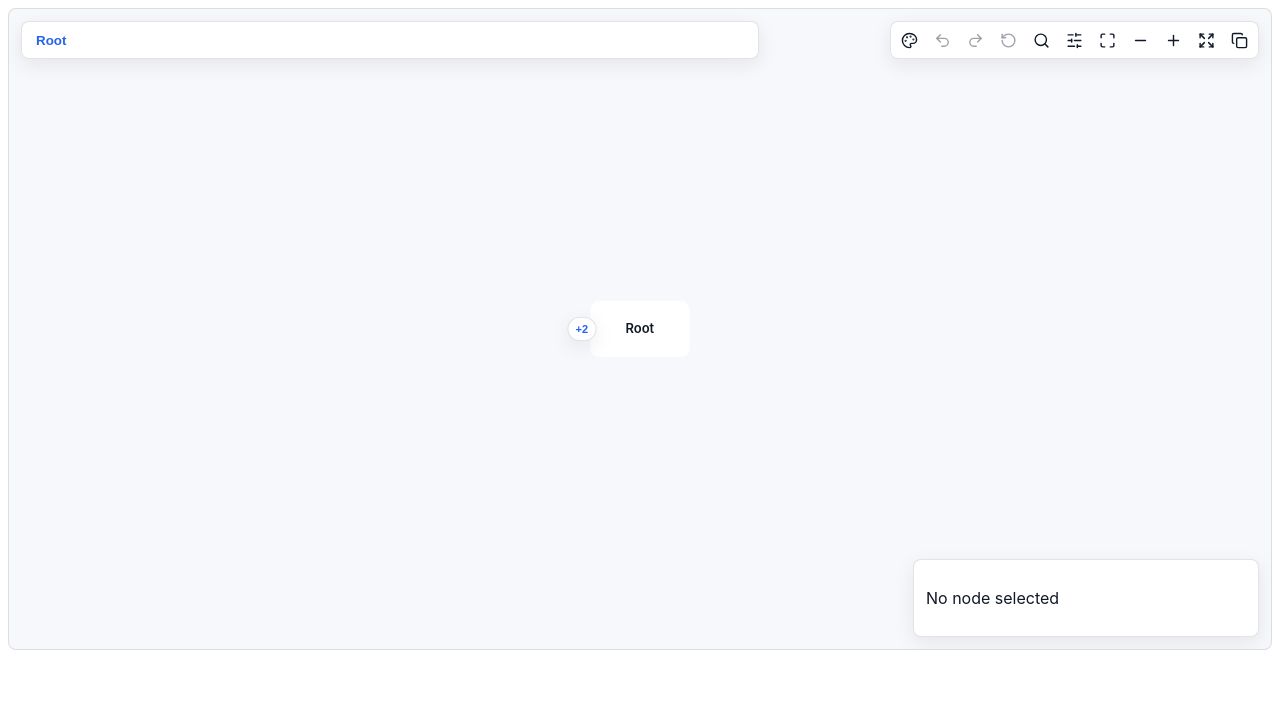
it: two-sided independent left/right branch collapse in MindMapEditor › keeps a collapsed side recoverable with 2 remaining children
The width and height of the screenshot is (1280, 720).
Expected: the text "Left 1" is not shown
Click the button named "Expand left branch of Root, 2 hidden nodes" at (582, 329), box 568,317 -> 596,341
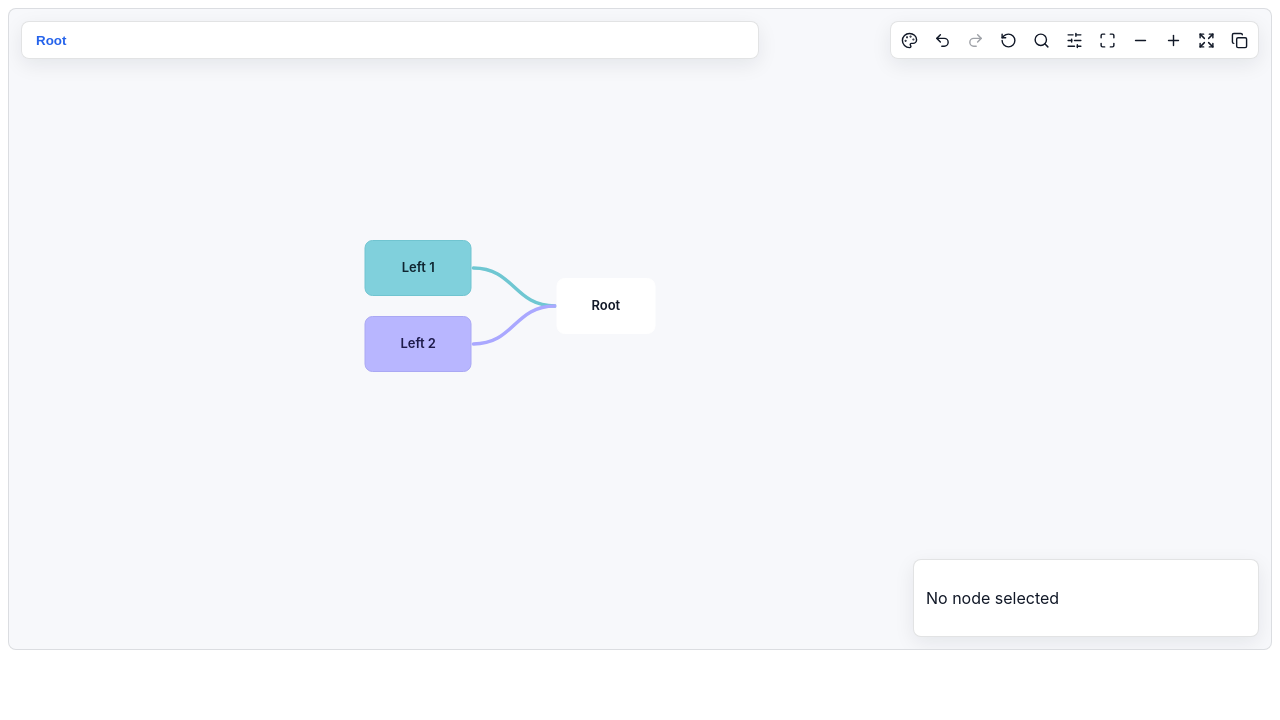
Expected: the text box "Left 1" is shown, 380,259 -> 457,277
